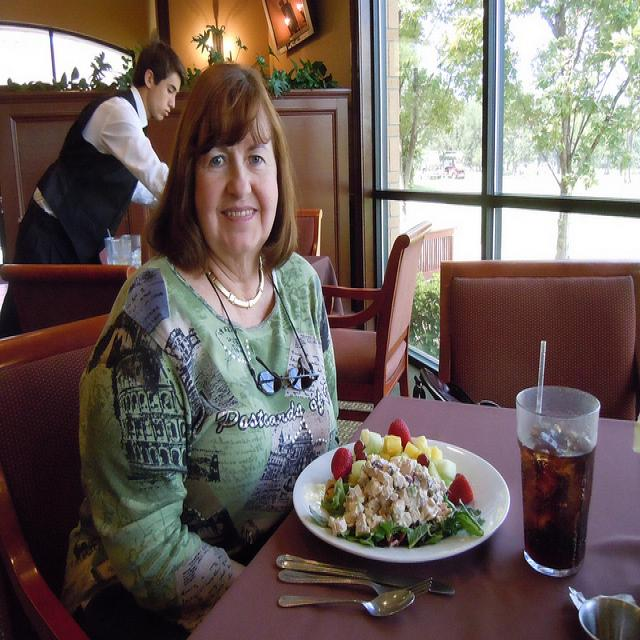chair: (2, 266, 140, 638), (413, 263, 639, 420), (321, 220, 432, 423), (295, 207, 323, 258)
dining table: (196, 381, 640, 631), (300, 253, 328, 269)
